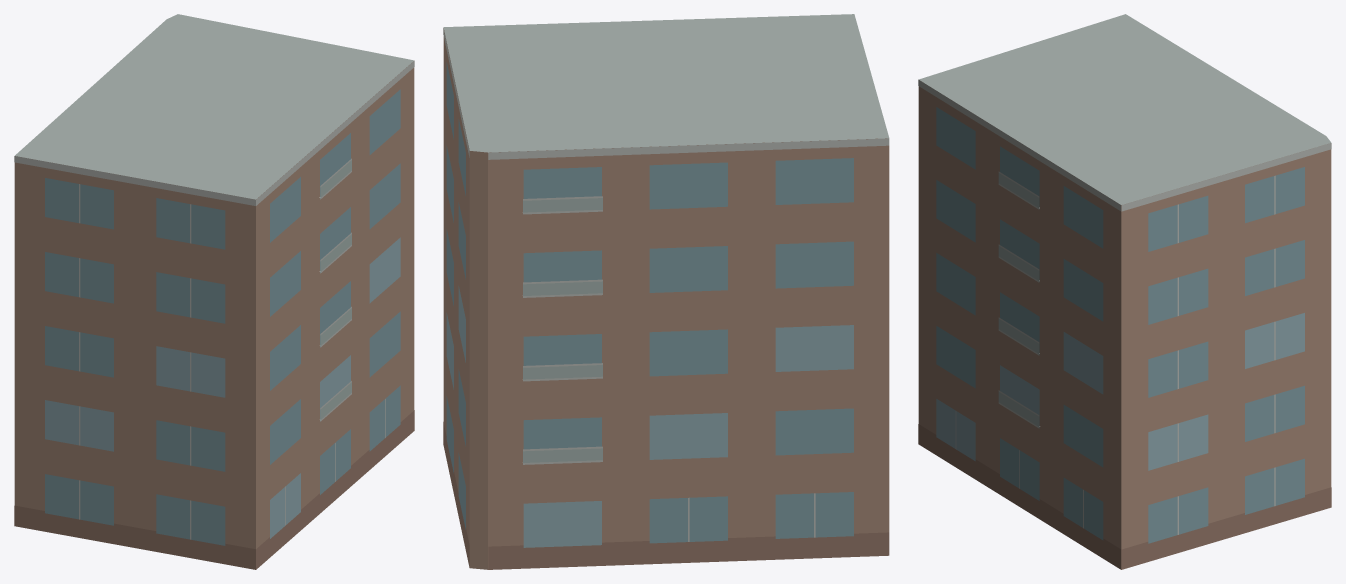
File: survey-upis-32894293.glb
The picture shows the model from 3 angles, left to right: view 1: azimuth 30°, elevation 25°; view 2: azimuth 150°, elevation 25°; view 3: azimuth 270°, elevation 25°; orthographic projection. The views are drawn at different scales.
Parts seen in each view (by area): view 1: survey-upis-32894293.tmp; view 2: survey-upis-32894293.tmp; view 3: survey-upis-32894293.tmp.
Part boxes in pixels (bbox=[...]): survey-upis-32894293.tmp: bbox=[14, 14, 414, 569]; survey-upis-32894293.tmp: bbox=[443, 14, 889, 569]; survey-upis-32894293.tmp: bbox=[918, 14, 1331, 569].
Size of the model in its own units: 15.47 by 13.75 by 14.12.
